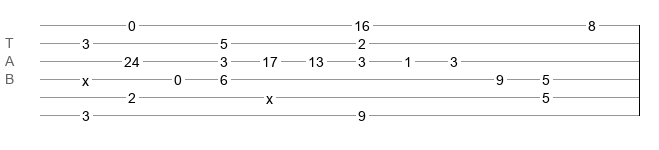0: (128, 18, 136, 28), (174, 72, 182, 82)
1: (404, 54, 412, 64)
13: (308, 54, 324, 64)
16: (354, 18, 370, 28)
17: (262, 54, 278, 64)
2: (128, 90, 136, 100), (358, 36, 366, 46)
24: (124, 54, 140, 64)
3: (82, 36, 90, 46), (82, 108, 90, 118), (220, 54, 228, 64), (358, 54, 366, 64), (450, 54, 458, 64)
5: (220, 36, 228, 46), (542, 72, 550, 82), (542, 90, 550, 100)
6: (220, 72, 228, 82)
8: (588, 18, 596, 28)
9: (358, 108, 366, 118), (496, 72, 504, 82)
x: (82, 73, 89, 81), (266, 91, 273, 99)
